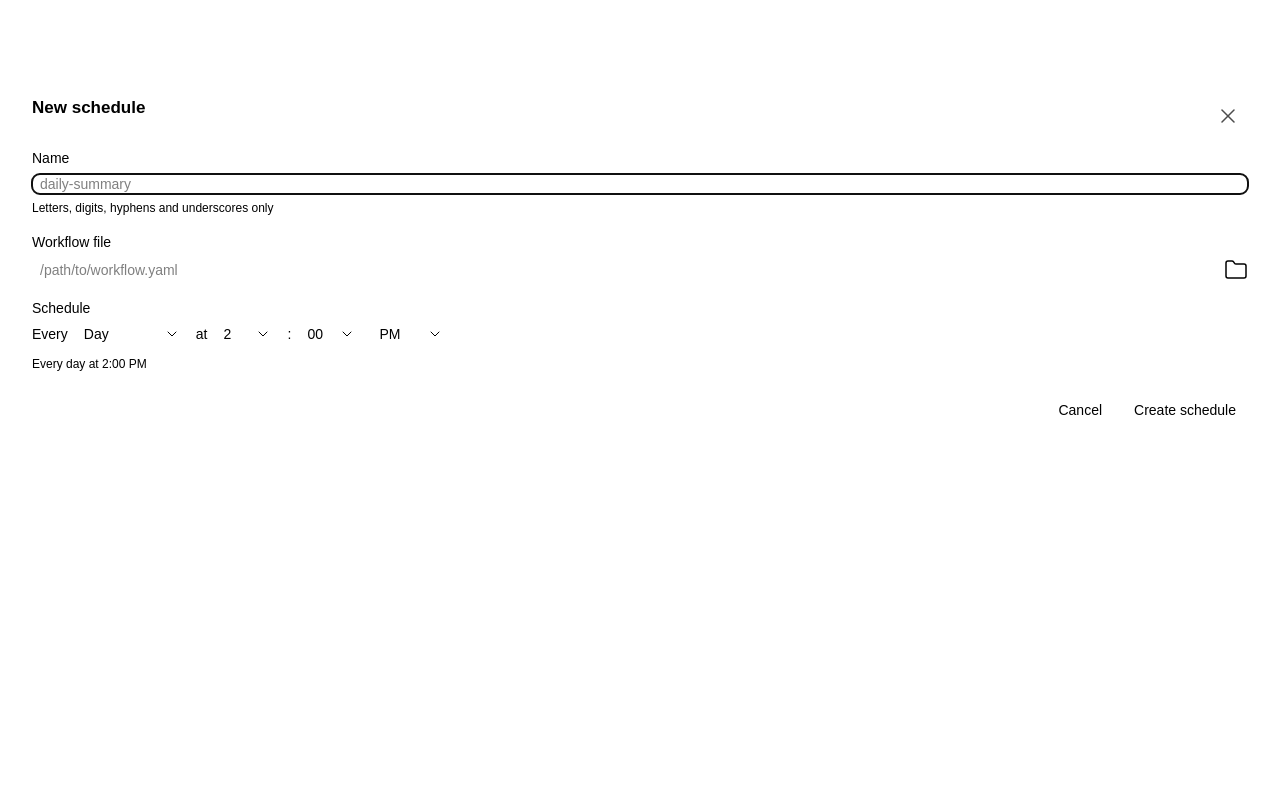
Test case: ScheduleModal name validation › explains the rule instead of submitting a name the daemon will refuse
In the field labelled "Name": (640, 184) [32,174,1248,194], type "<img src=x onerror=alert(1)>"
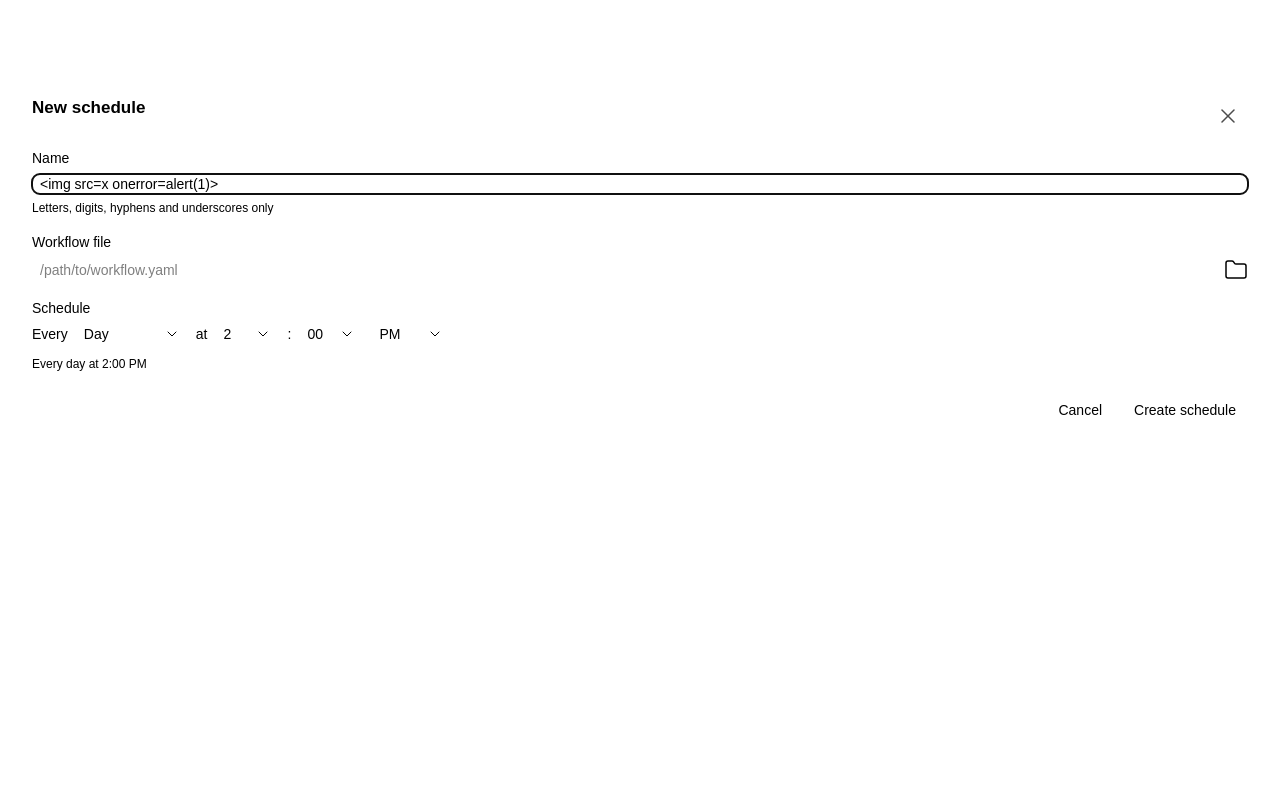
In the field labelled "Workflow file": (624, 270) [32,260,1216,280], type "/tmp/wf.yaml"
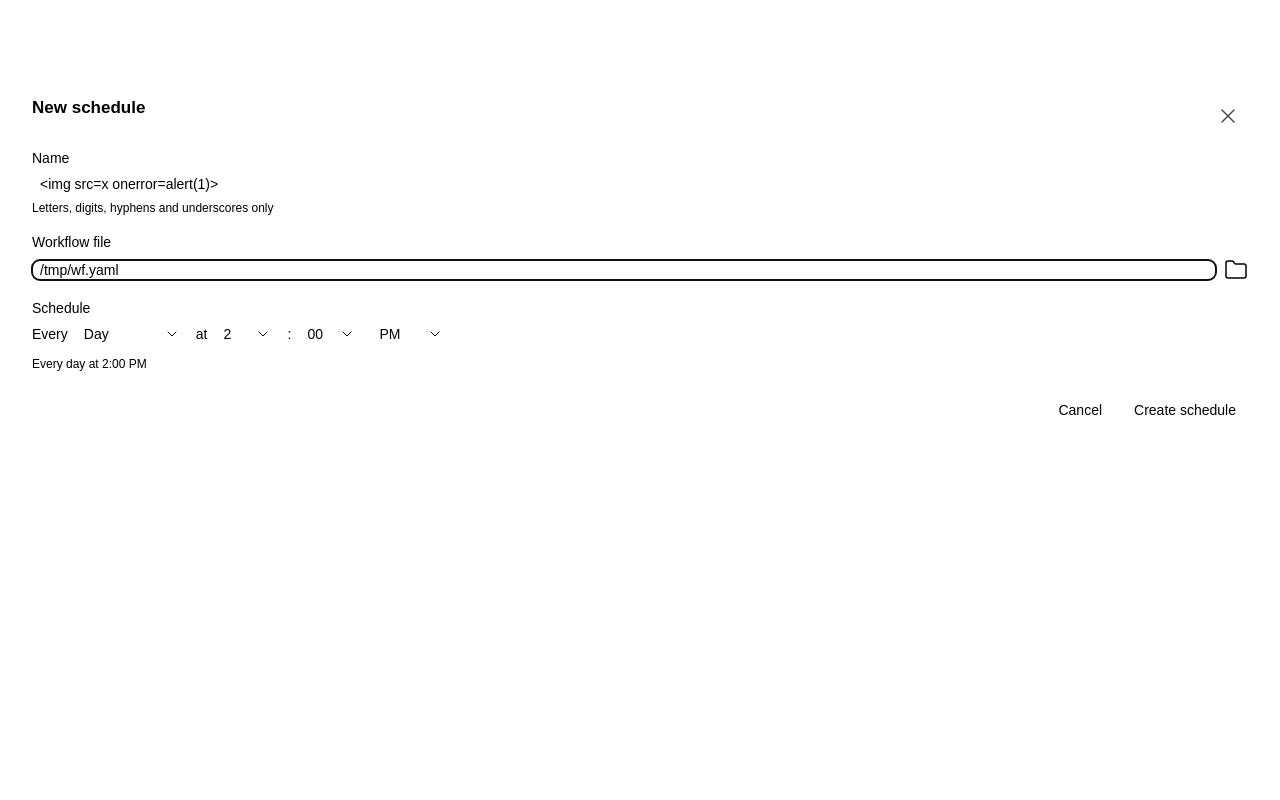
Click the button "Create schedule": (1185, 410) [1122,400,1248,420]
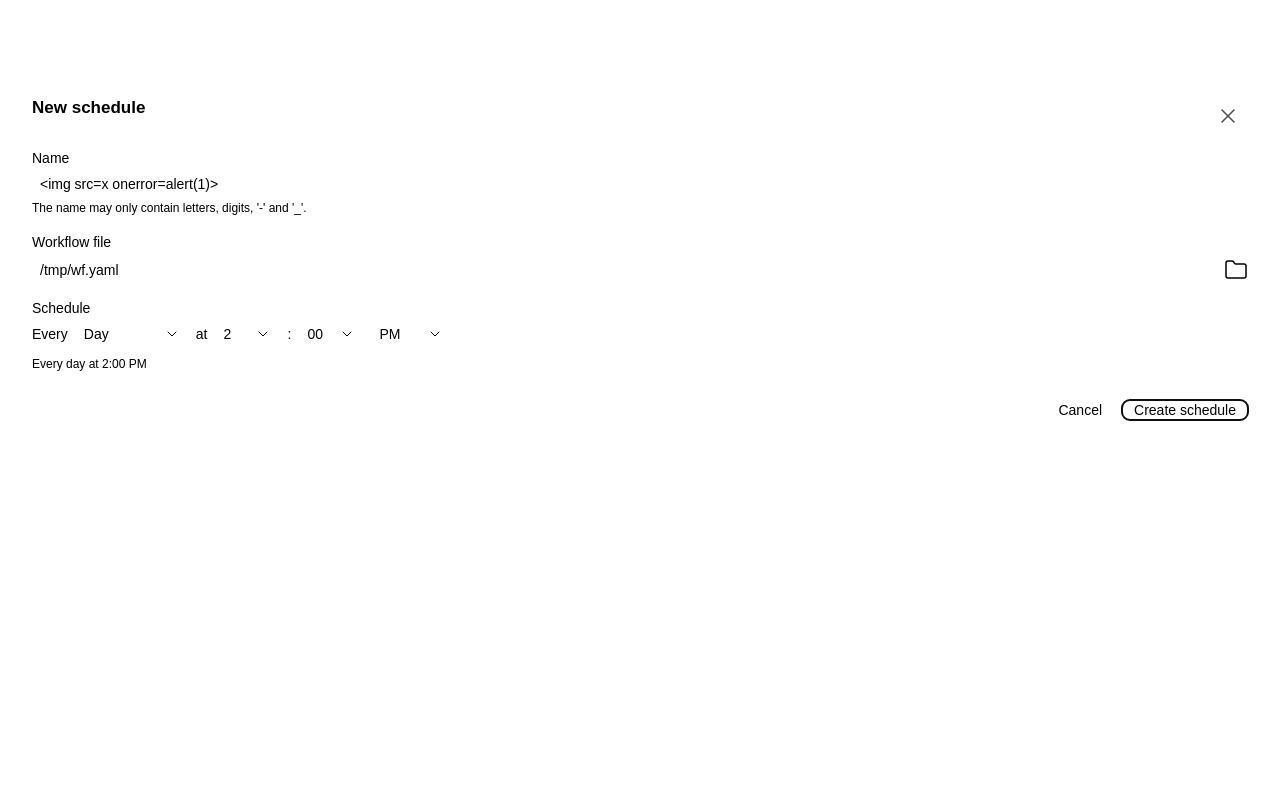
Result: the message reads "The name may only contain letters, digits, '-' and '_'." at [32,201,307,215]
